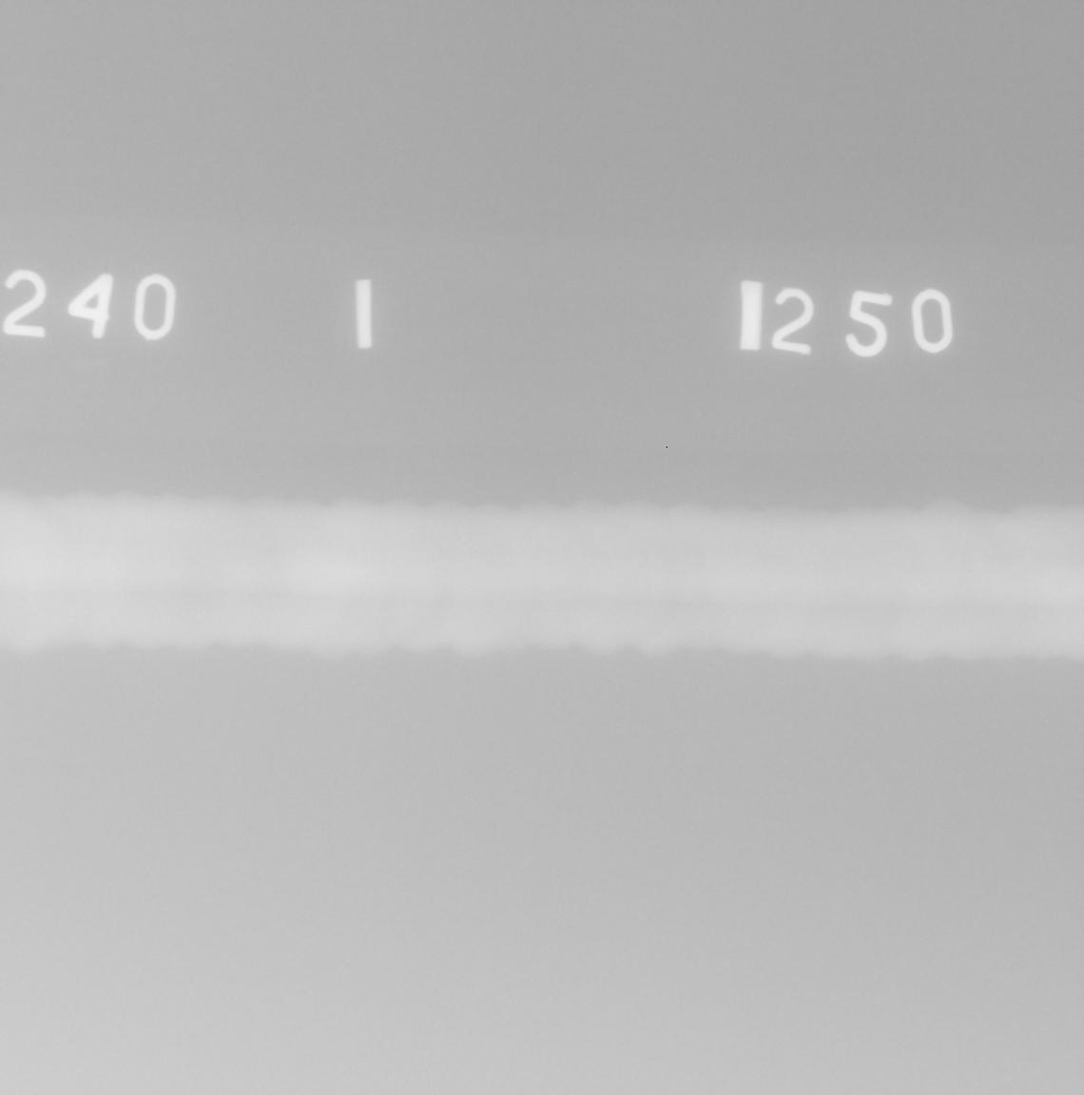Inclusion: (87, 606, 92, 611)
